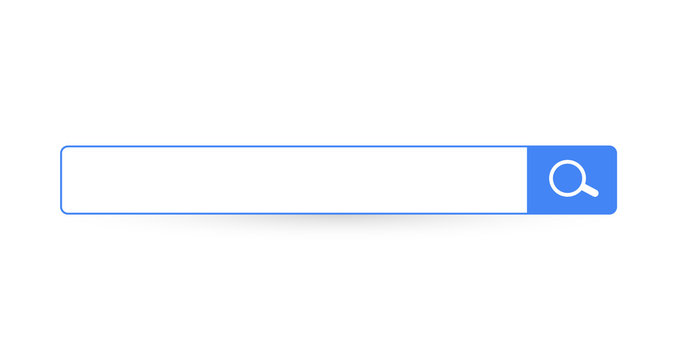search_box: (61, 144, 618, 213)
